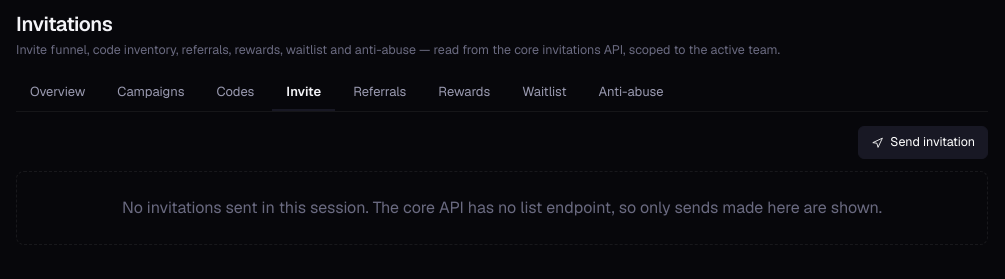
InvitationsView › switching tabs swaps the active panel (R16 — drives the transition)
The width and height of the screenshot is (1005, 279).
Click the tab with test id "admin-invitations-tab-codes" at (235, 93), box left=202, top=74, right=268, bottom=111
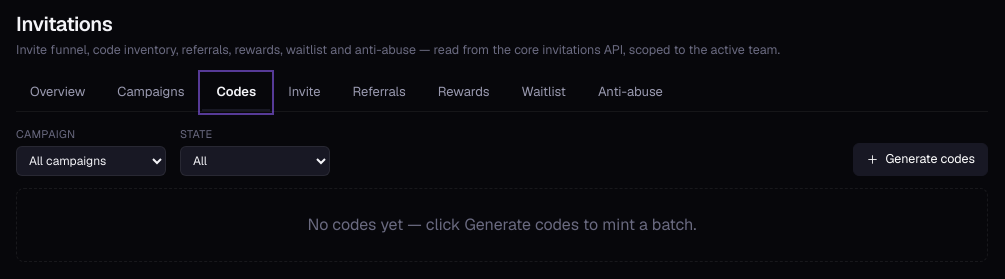
Expected: the panel with test id "admin-invitations-panel-codes" is shown, left=16, top=126, right=988, bottom=262
